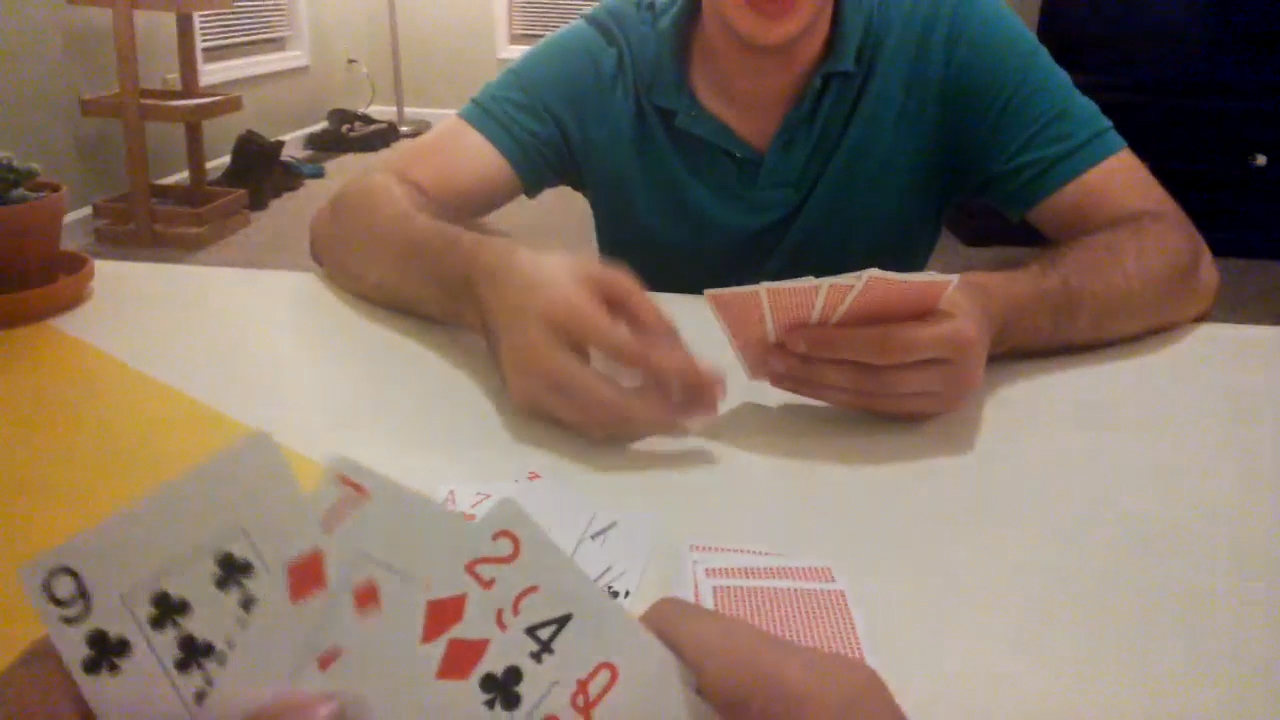hand: (481, 249, 723, 440), (766, 281, 990, 434), (637, 596, 914, 718), (3, 636, 361, 718)
